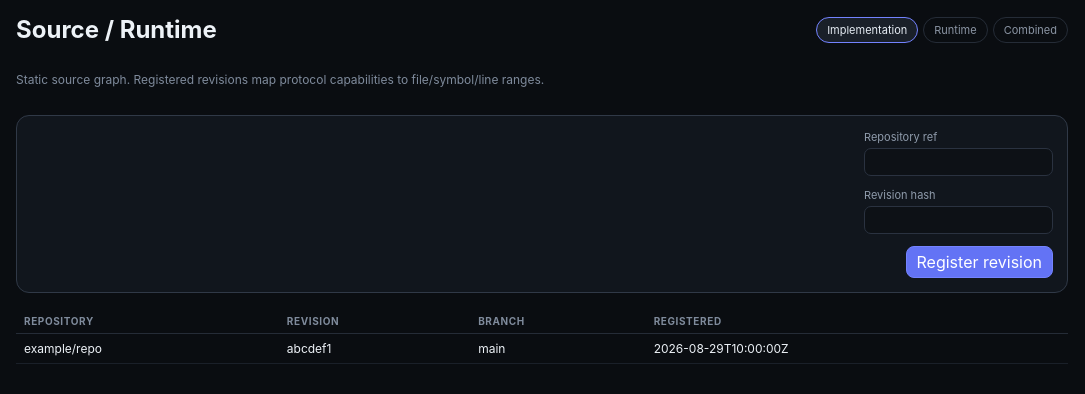
SourcePage — Stream E › Combined mode overlays static AND runtime edges
The width and height of the screenshot is (1085, 394).
Click the tab with test id "source-mode-combined" at (1030, 30), box [993, 16, 1068, 42]
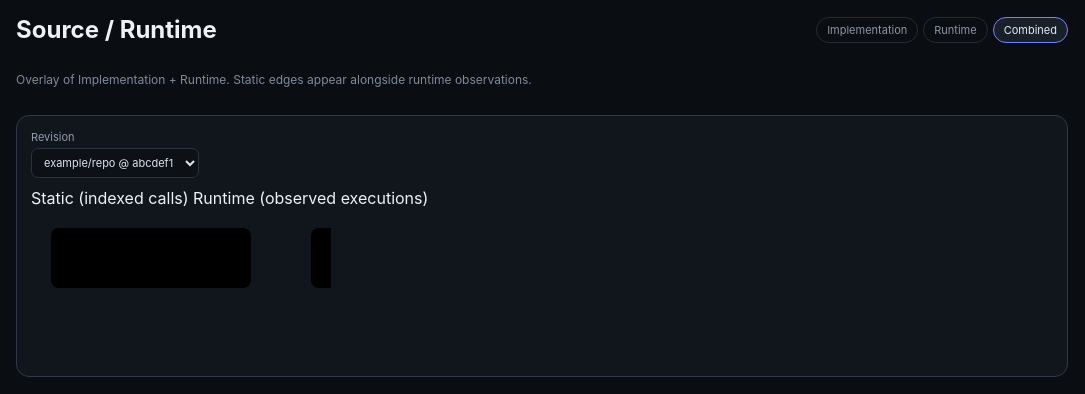
Now the element with test id "source-combined-view" is shown
